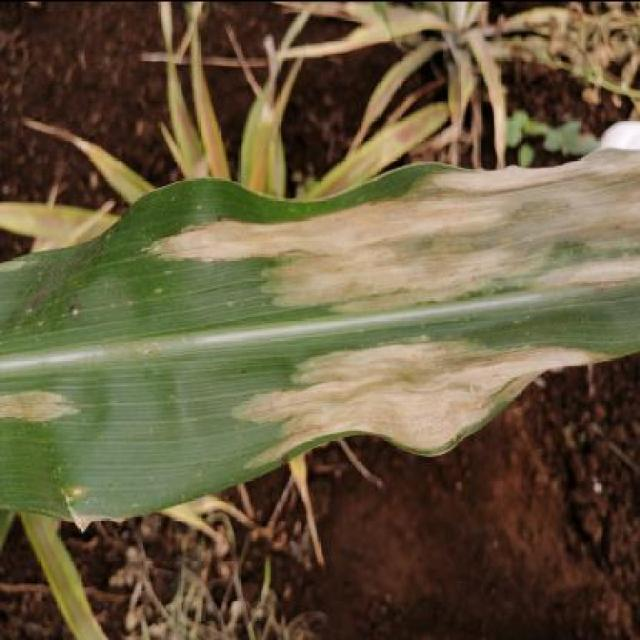Corn_Leaf_Blight: (11, 154, 640, 498)
